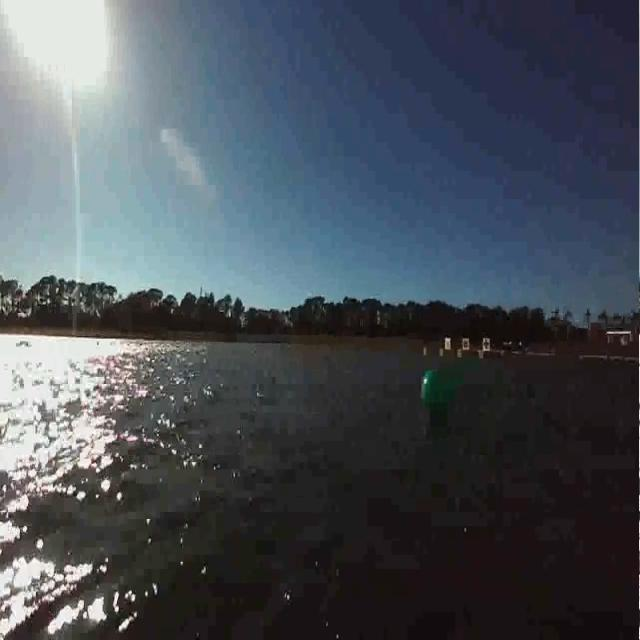green-buoy: (421, 361, 456, 418)
